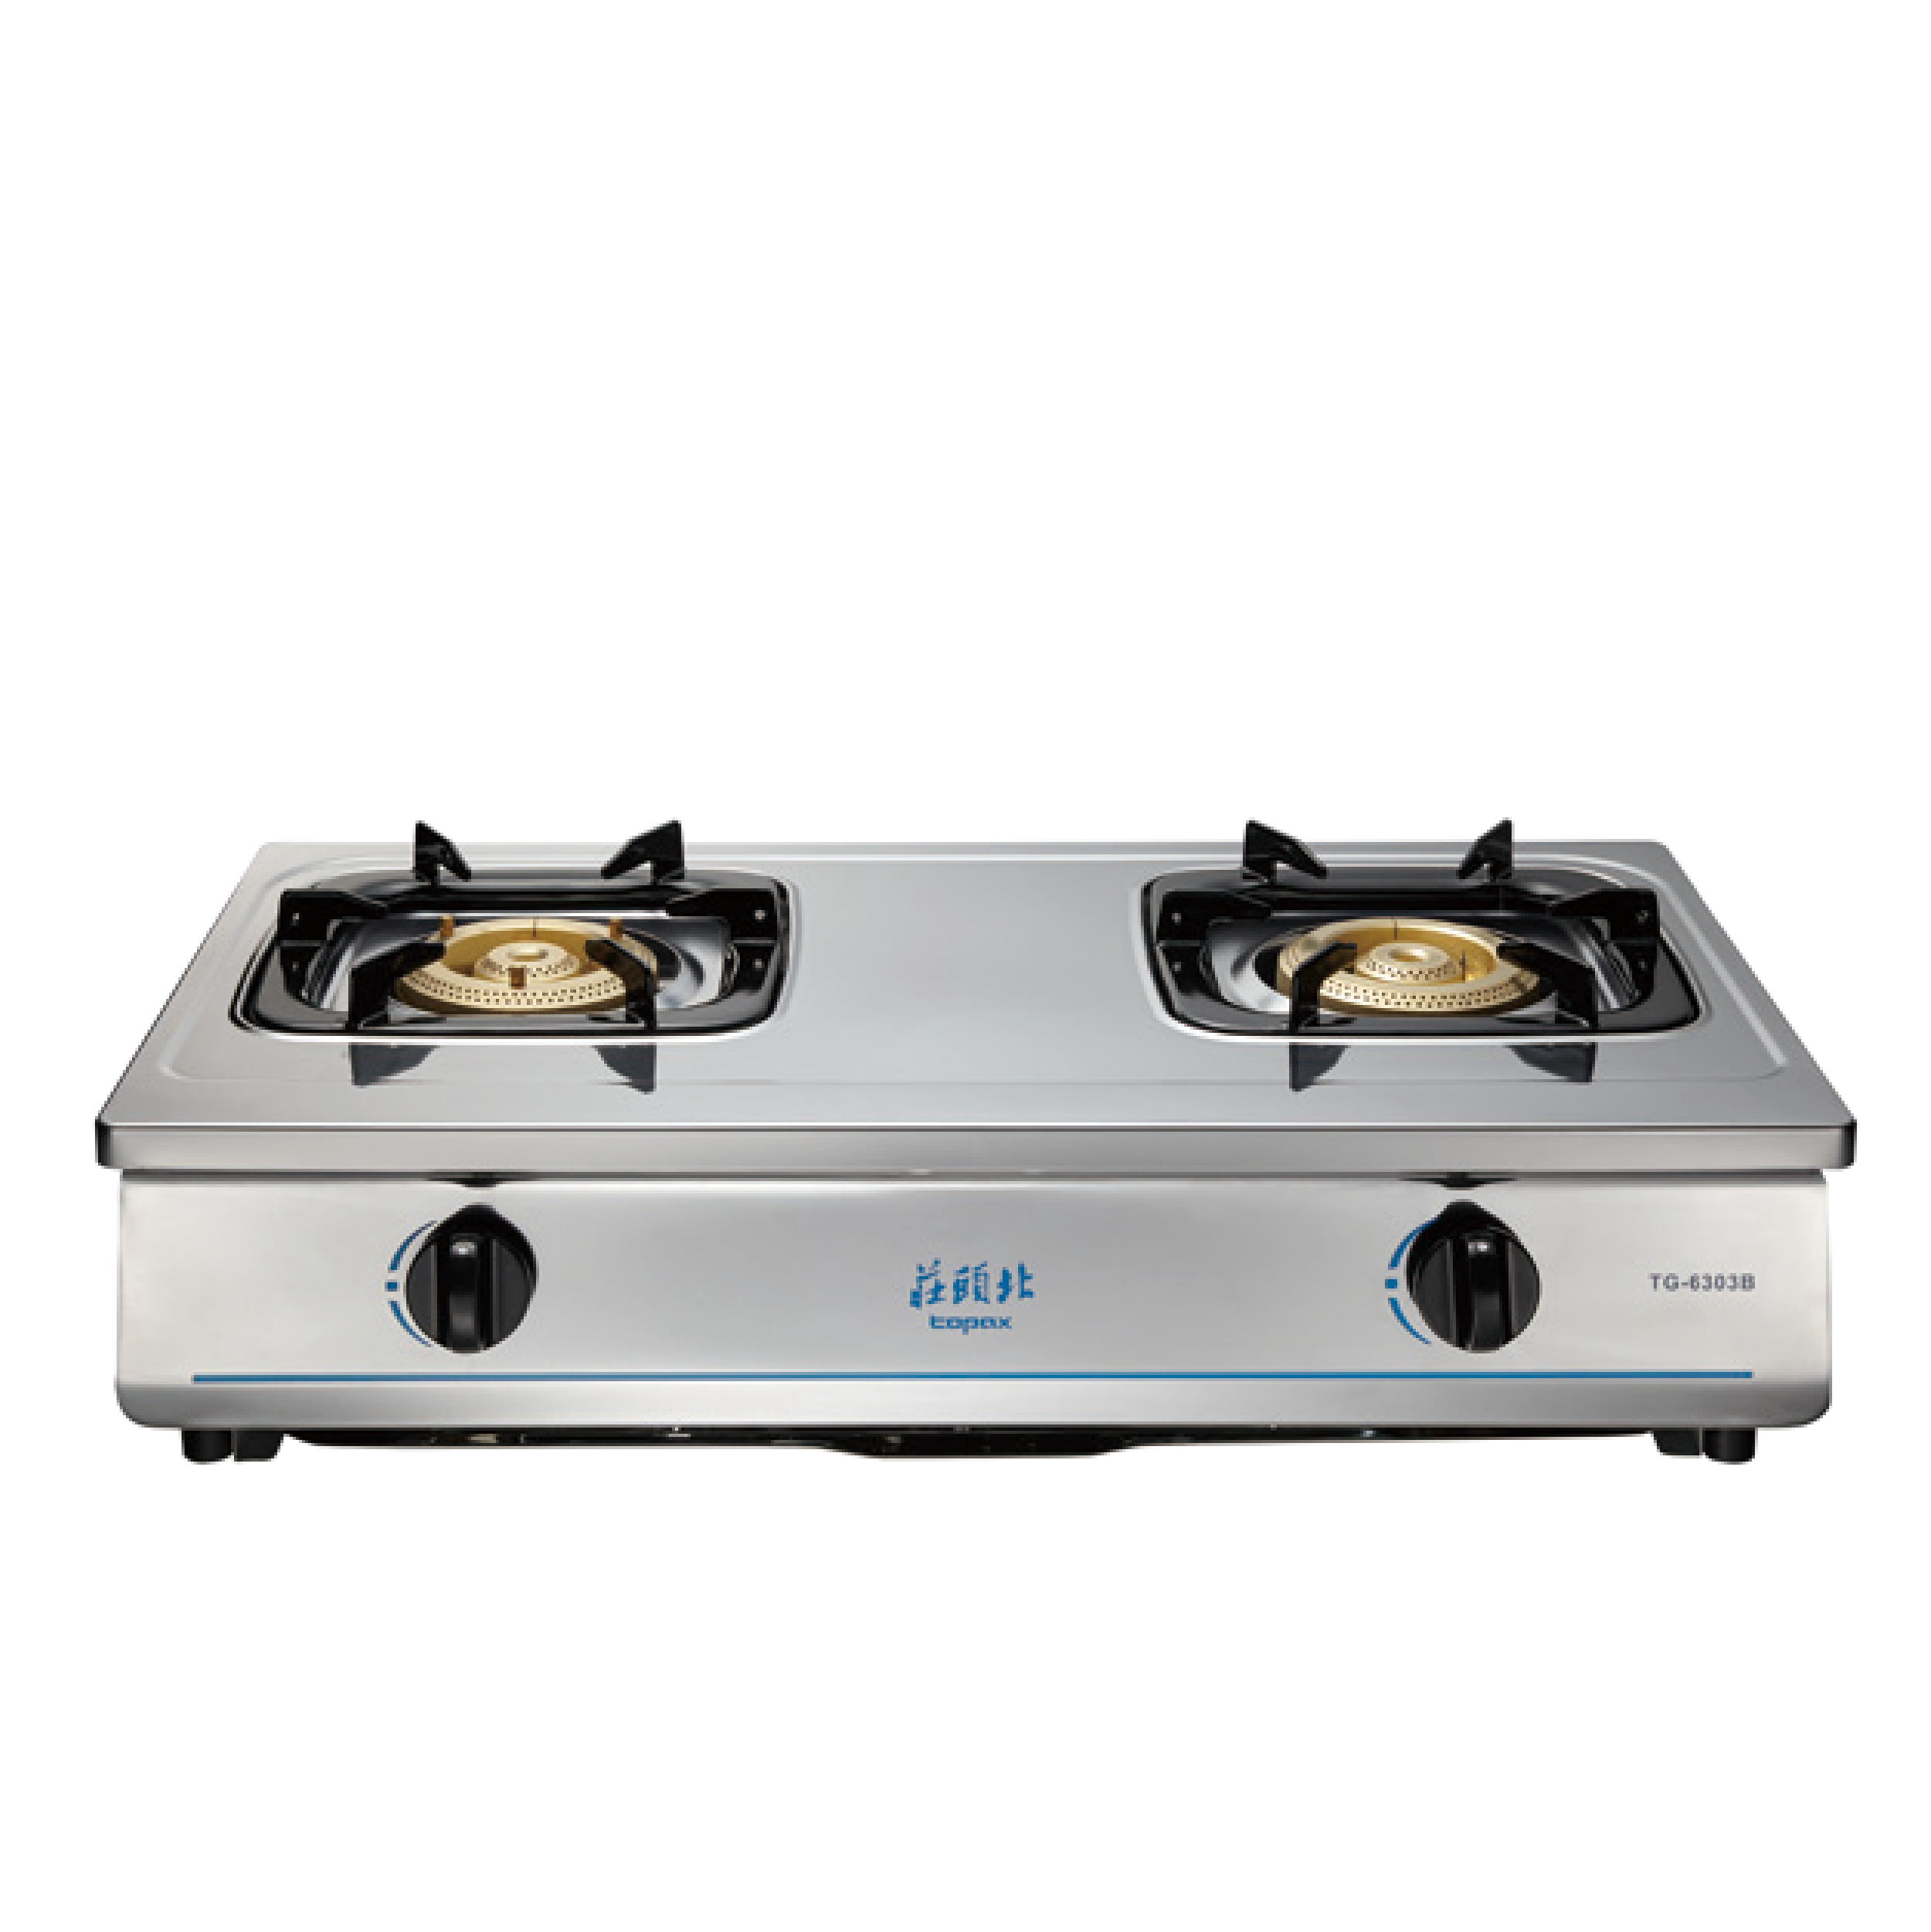gasoven: (74, 793, 1881, 1481)
